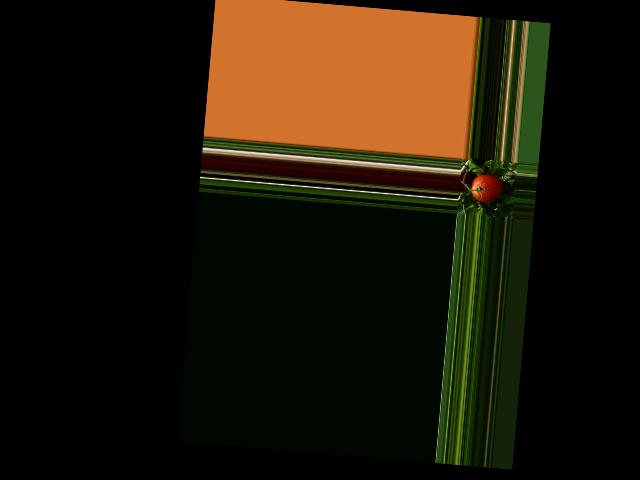tomato: (470, 173, 503, 203)
